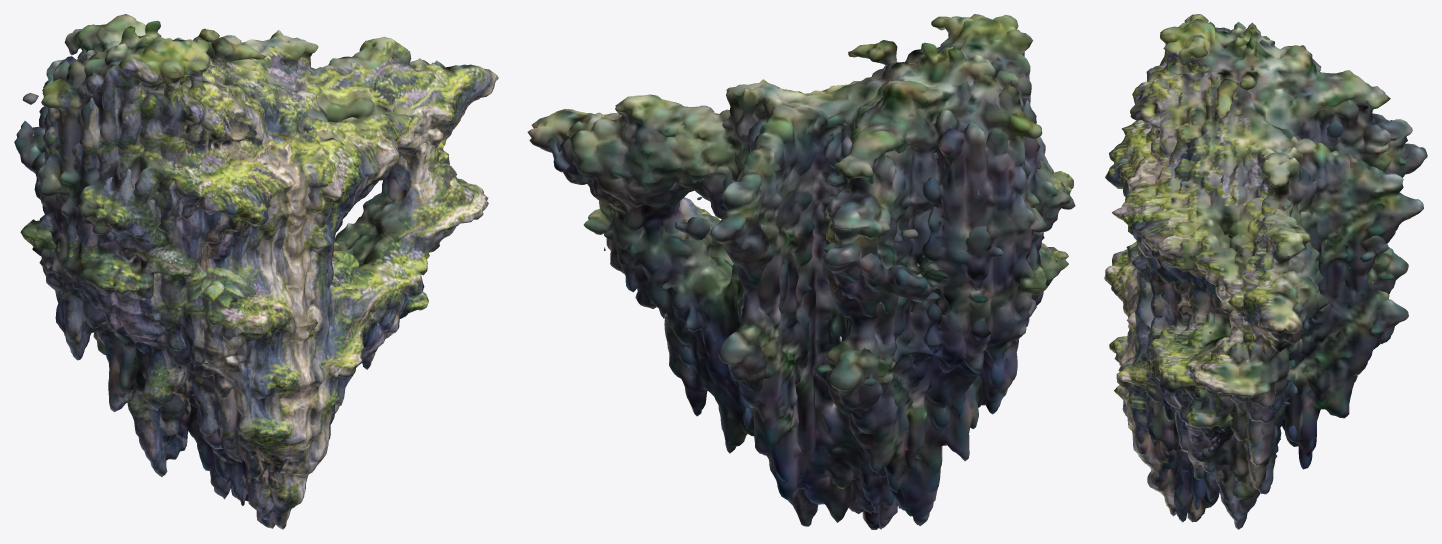
Rendered from riven-cliff.glb.
3 views of the same model, side by side, from view 1: azimuth 30°, elevation 25°; view 2: azimuth 150°, elevation 25°; view 3: azimuth 270°, elevation 25° (orthographic). The views are drawn at different scales.
Visible parts, largest first — view 1: Riven cliff • original sculpt; view 2: Riven cliff • original sculpt; view 3: Riven cliff • original sculpt.
Part boxes in pixels (x1,y1,x2,y2): Riven cliff • original sculpt: (14, 14, 498, 529); Riven cliff • original sculpt: (527, 14, 1075, 529); Riven cliff • original sculpt: (1104, 14, 1427, 529).
Size of the model in its own units: 41.29 by 42 by 27.15.
Materials: 1 (1 with a texture image).
